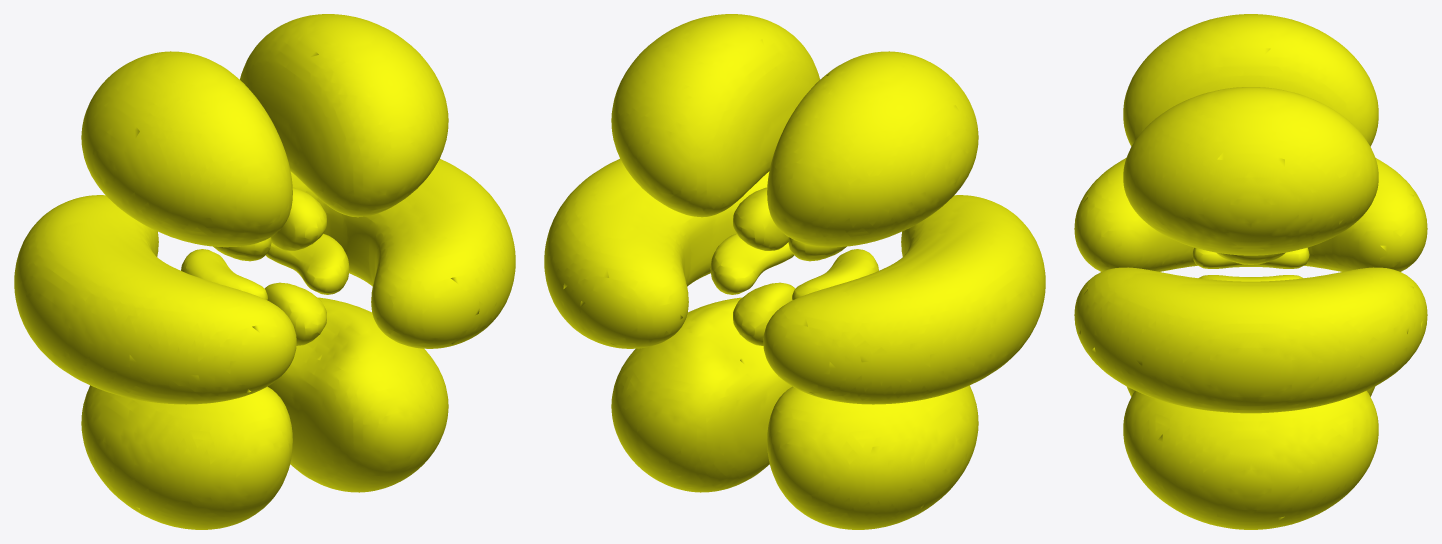
Rendered from orb_n=5_ l=3 _m=1.fbx.
3 renders of one model, left to right at view 1: azimuth 30°, elevation 25°; view 2: azimuth 150°, elevation 25°; view 3: azimuth 270°, elevation 25°, orthographic. The views are drawn at different scales.
Parts seen in each view (by area): view 1: orb_n=5_ l=3 _m=1; view 2: orb_n=5_ l=3 _m=1; view 3: orb_n=5_ l=3 _m=1.
Part boxes in pixels (x1,y1,x2,y2): orb_n=5_ l=3 _m=1: (14, 14, 515, 529); orb_n=5_ l=3 _m=1: (544, 14, 1045, 529); orb_n=5_ l=3 _m=1: (1074, 14, 1427, 529).
Bounding box in the file's own units: 10510 × 10185 × 7620.
